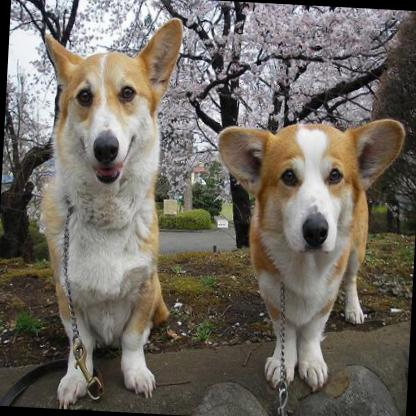Pembroke: (22, 9, 184, 412), (201, 107, 406, 398)
